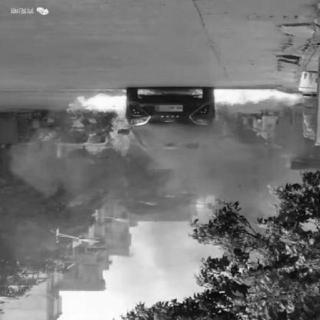Fire: (79, 87, 295, 161)
